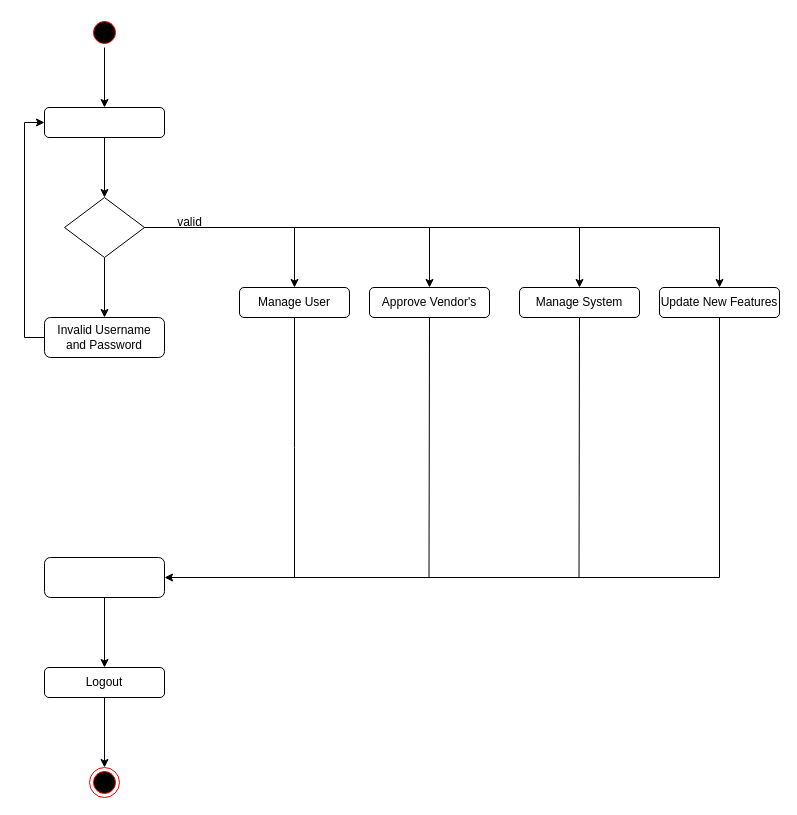
This 797x815 diagram has some shape labels left out. Each missing label, with the box of its shape:
Login: (44, 106, 164, 138)
Maintenance Check: (44, 556, 164, 598)
